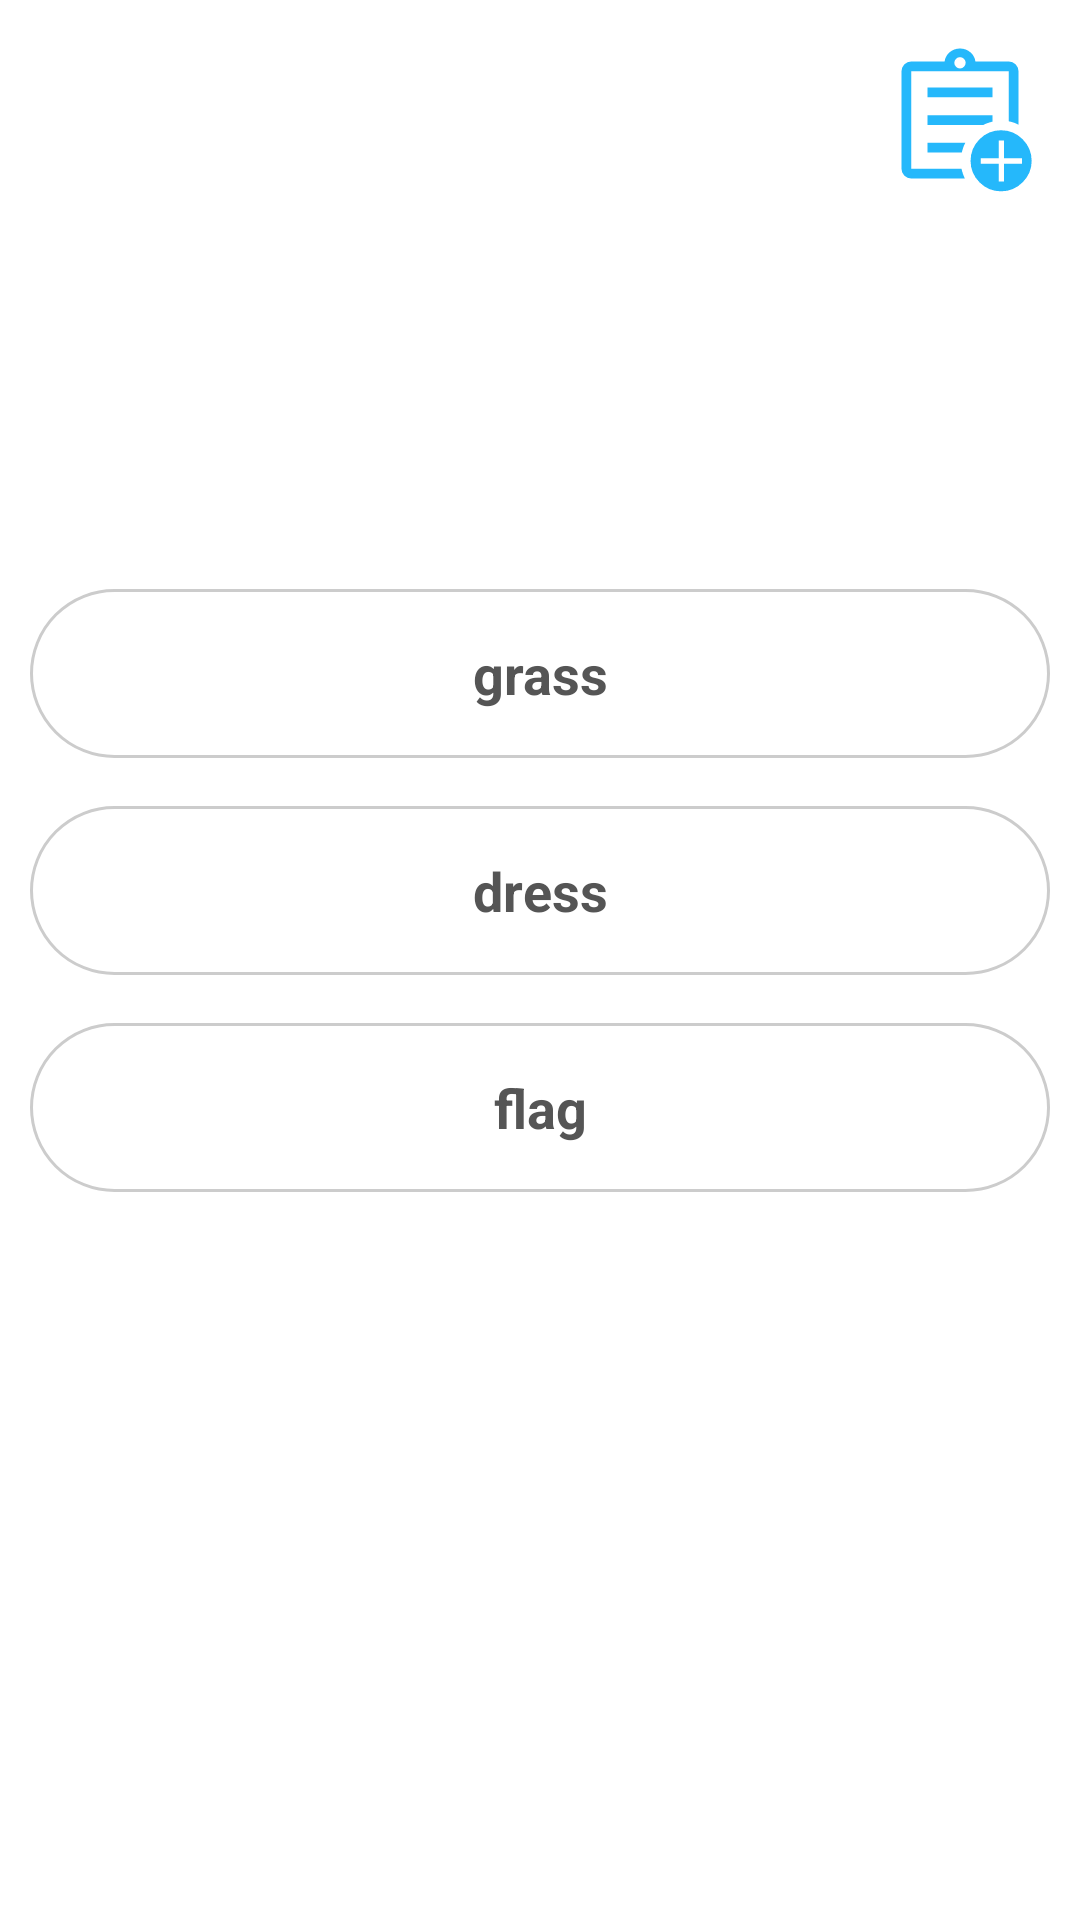

Icons on this 1080x1920 Android screen, each with the point to tap as (x,y):
home add to note: (966,120)
